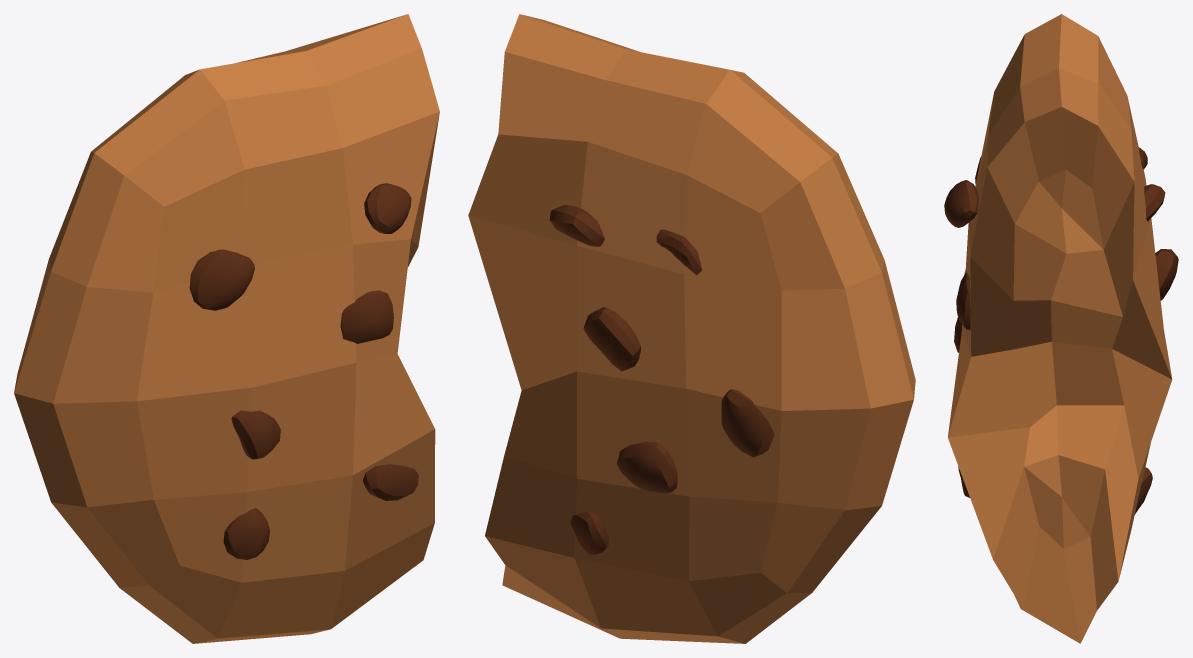
The model's file is cookie-2.glb.
The picture shows the model from 3 angles, left to right: view 1: azimuth 30°, elevation 25°; view 2: azimuth 150°, elevation 25°; view 3: azimuth 270°, elevation 25°; orthographic projection. The views are drawn at different scales.
Visible parts, largest first — view 1: Cube.004, Cube.003; view 2: Cube.004, Cube.003; view 3: Cube.004, Cube.003.
Part boxes in pixels (left/top/right/bottom): Cube.004: left=14, top=14, right=439, bottom=643; Cube.003: left=189, top=183, right=418, bottom=559; Cube.004: left=468, top=14, right=915, bottom=643; Cube.003: left=549, top=205, right=774, bottom=554; Cube.004: left=948, top=14, right=1172, bottom=643; Cube.003: left=944, top=147, right=1178, bottom=513.
Size of the model in its own units: 1.25 by 1.75 by 0.6562.
